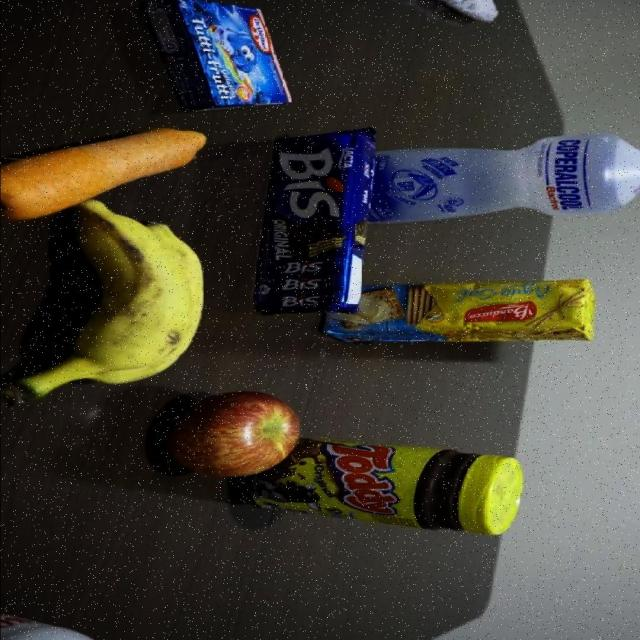AlcoholBottle: (384, 139, 640, 226)
Apple: (162, 392, 300, 476)
Banana: (0, 217, 210, 414)
Carrot: (0, 125, 212, 208)
ChocolatePowder: (299, 440, 531, 538)
Cracker: (379, 280, 594, 344)
Gelatine: (144, 0, 292, 113)
